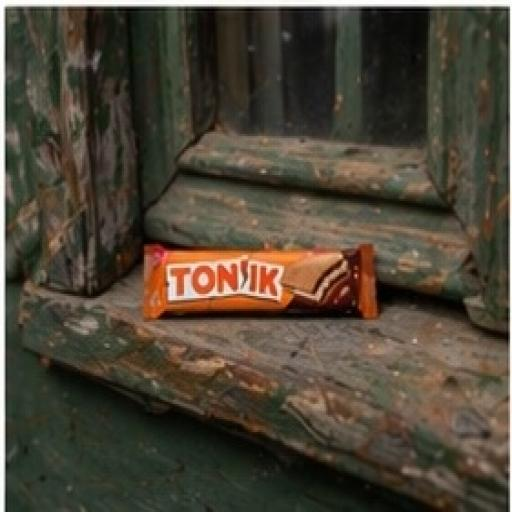tonik: (96, 214, 389, 342)
